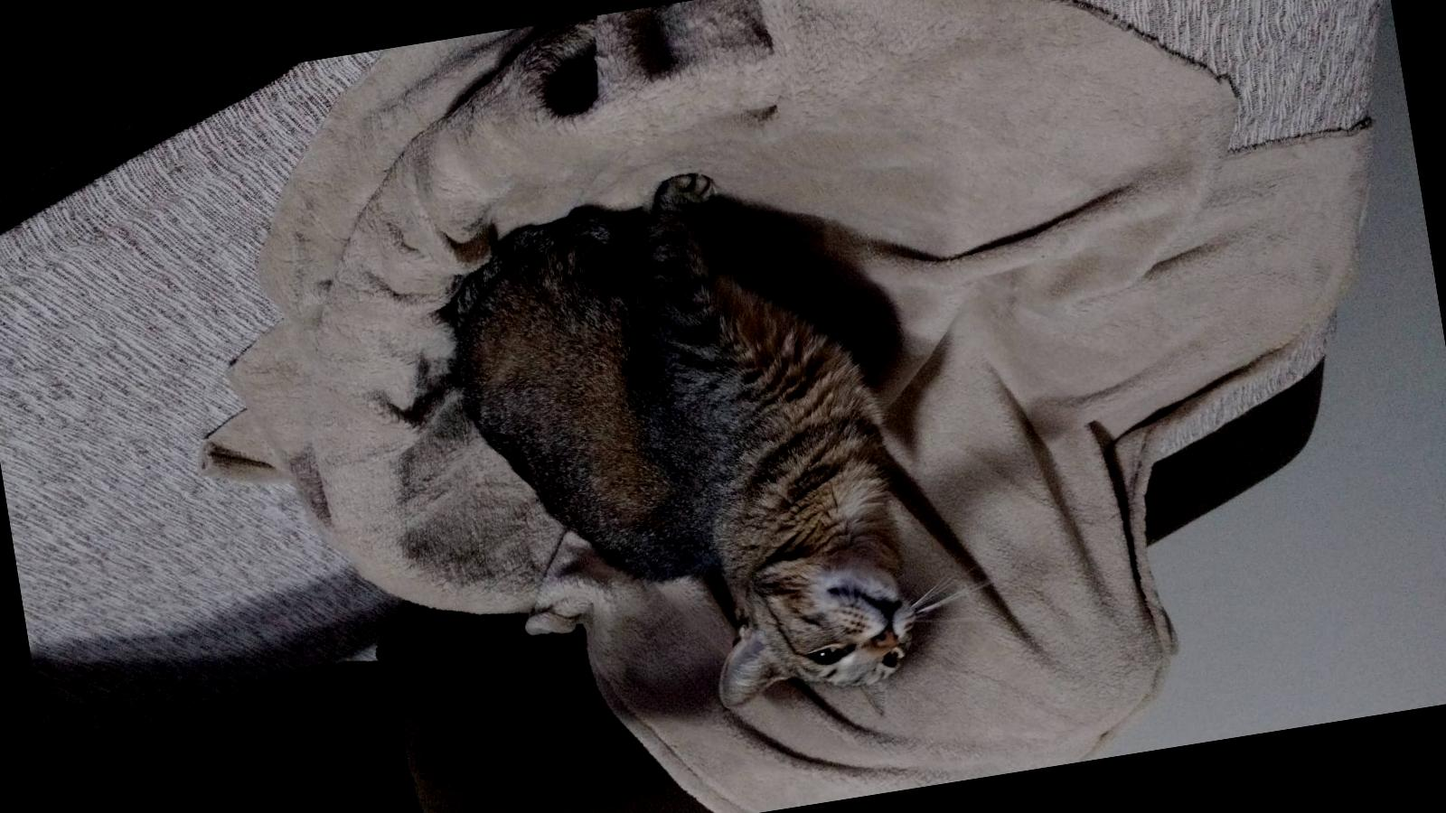macka: (430, 147, 937, 776)
